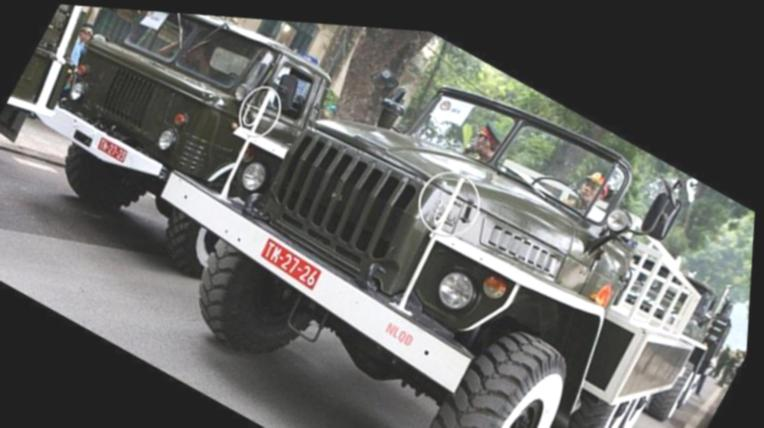License_Plate: (260, 239, 323, 292), (92, 135, 130, 164)
